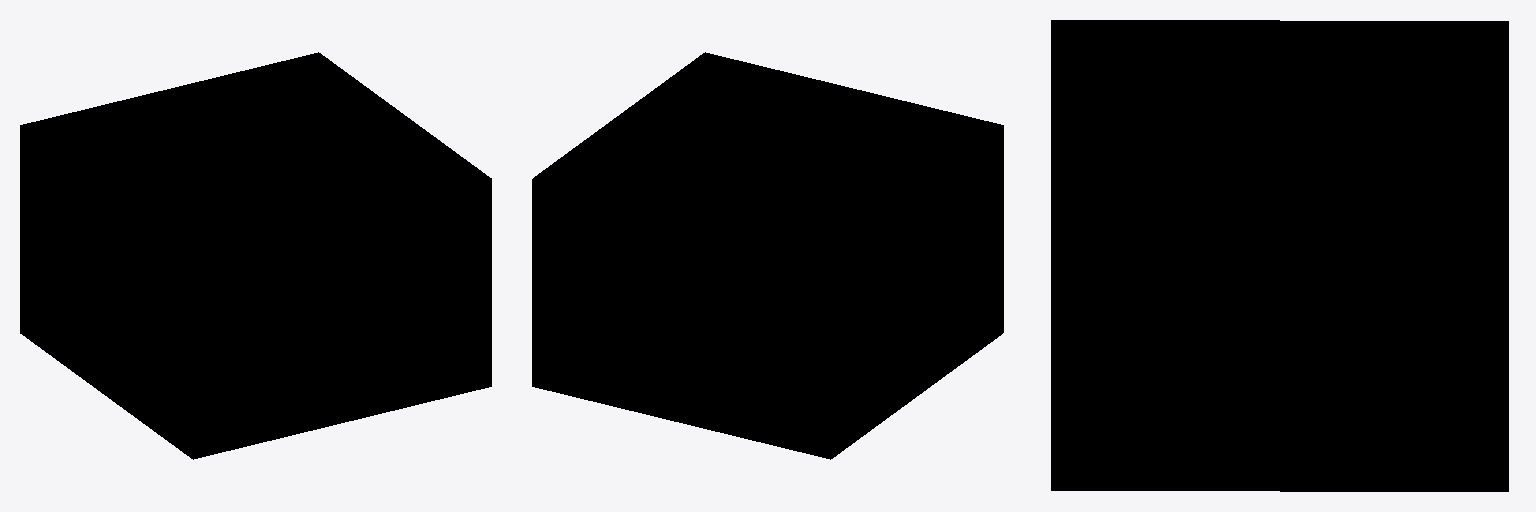
URDF robot description (stand):
<?xml version="0.0" ?>
<robot name="stand">
  <link name="baseLink">
    <contact>
      <lateral_friction value="1.0"/>
      <inertia_scaling value="3.0"/>
    </contact>
    <inertial>
      <origin rpy="0 0 0" xyz="0 0 0"/>
       <mass value=".02"/>
       <inertia ixx="0.1" ixy="0" ixz="0" iyy="0.1" iyz="0" izz="0.1"/>
    </inertial>
    <visual>
      <origin rpy="1.5707 0 0" xyz="0 0 0.08"/>
      <geometry>
        <box size="0.3 0.2 0.3"/>
      </geometry>
      <material name="brown">
        <color rgba="0 0 0 1"/>
      </material>
    </visual>
    <collision>
      <origin rpy="1.5707 0 0" xyz="0 0 0.08"/>
      <geometry> 
        <box size="0.3 0.2 0.3 "/> 
      </geometry>
    </collision>
  </link>
</robot>

--- Facts derived from the render (not from the file) ---
Views: 3 orthographic renders of the robot side by side, from view 1: azimuth 30°, elevation 25°; view 2: azimuth 150°, elevation 25°; view 3: azimuth 270°, elevation 25°.
Model stand with 1 links and 0 joints (none), rooted at baseLink, posed every joint at zero.
Links seen in each view (by area): view 1: baseLink; view 2: baseLink; view 3: baseLink.
Boxes of the visible links, x1=… form: baseLink: x1=20, y1=52, x2=491, y2=459; baseLink: x1=532, y1=52, x2=1003, y2=459; baseLink: x1=1051, y1=20, x2=1508, y2=491.
Bounding box of the posed robot: 0.3 × 0.3 × 0.2 m (x, y, z).
Geometry: primitives only (box / cylinder / sphere), no mesh files.
